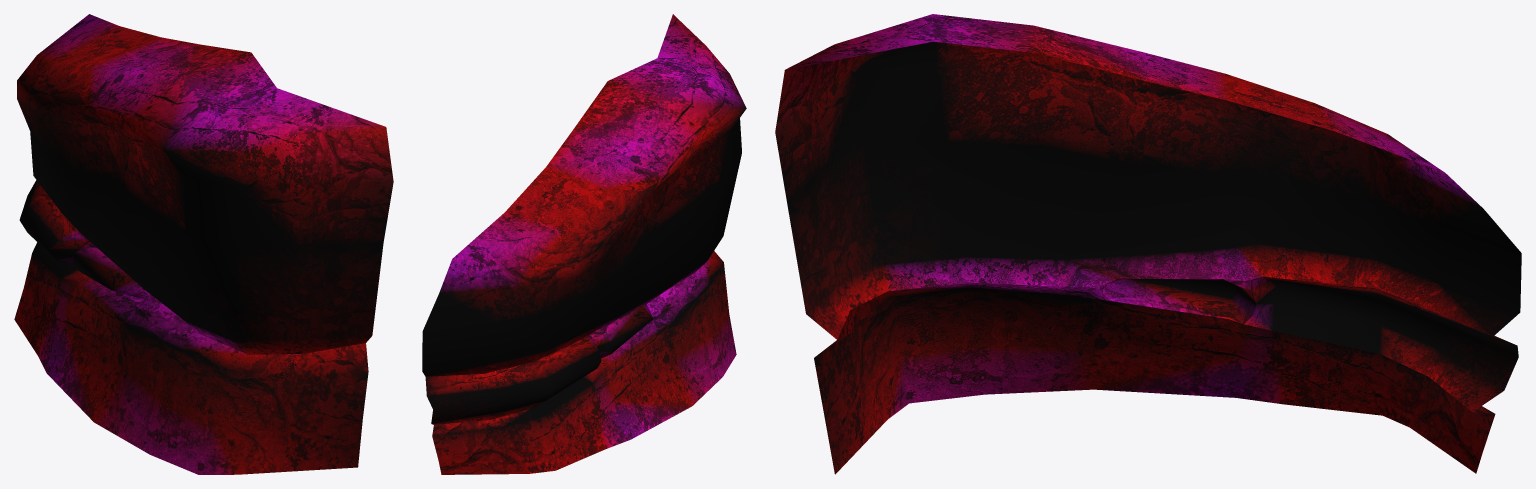
The model's file is RockCliffLarge1.glb.
3 renders of one model, left to right at view 1: azimuth 30°, elevation 25°; view 2: azimuth 150°, elevation 25°; view 3: azimuth 270°, elevation 25°, orthographic. The views are drawn at different scales.
Visible parts, largest first — view 1: RockCliffLarge1; view 2: RockCliffLarge1; view 3: RockCliffLarge1.
Part boxes in pixels (x1=…): RockCliffLarge1: x1=14, y1=14, x2=393, y2=474; RockCliffLarge1: x1=422, y1=14, x2=746, y2=474; RockCliffLarge1: x1=775, y1=14, x2=1521, y2=474.
Bounding box in the file's own units: 4.07 × 8.64 × 14.16.
1 material, 1 textured.
